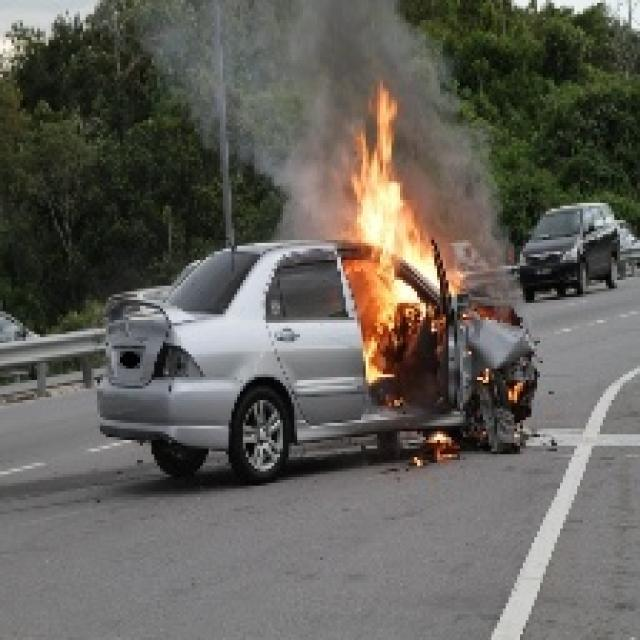Fire: (348, 88, 457, 384)
Smoke: (165, 0, 348, 240), (464, 130, 524, 308), (350, 0, 454, 86)
